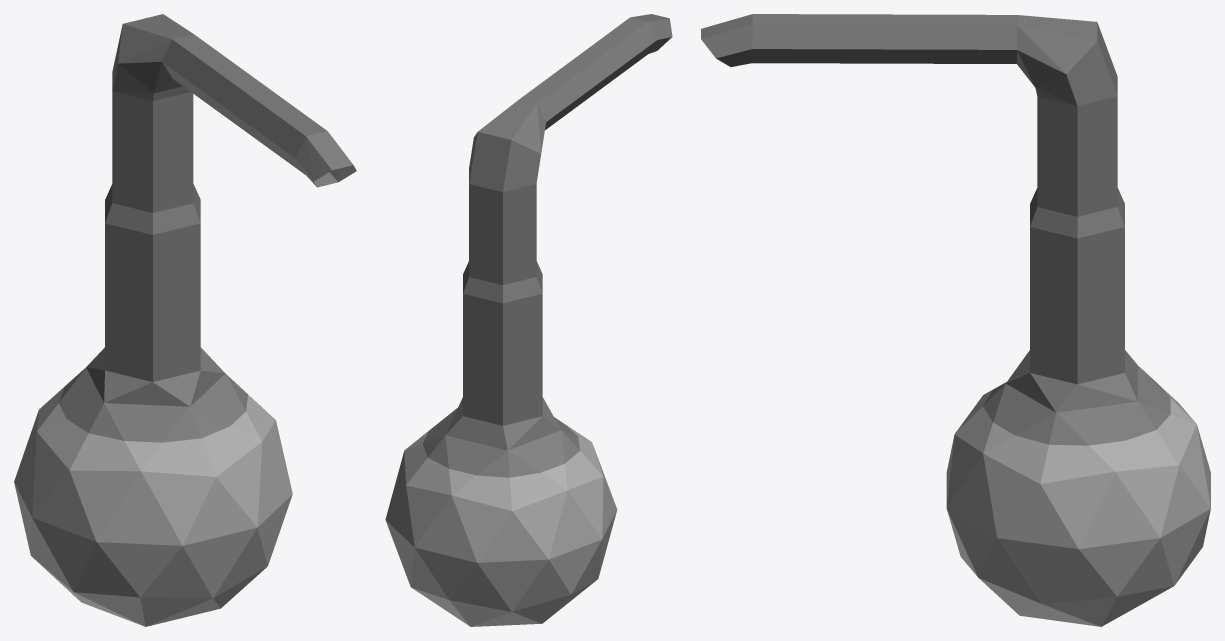
The model's file is alchemist_aparatus_749x04.gltf.
3 renders of one model, left to right at view 1: azimuth 30°, elevation 25°; view 2: azimuth 150°, elevation 25°; view 3: azimuth 270°, elevation 25°, orthographic. The views are drawn at different scales.
Visible parts, largest first — view 1: alchemist_aparatus_749x04; view 2: alchemist_aparatus_749x04; view 3: alchemist_aparatus_749x04.
Boxes of the visible parts, x1=… form: alchemist_aparatus_749x04: x1=14, y1=14, x2=356, y2=626; alchemist_aparatus_749x04: x1=385, y1=14, x2=672, y2=626; alchemist_aparatus_749x04: x1=701, y1=14, x2=1210, y2=626.
Bounding box in the file's own units: 0.5225 × 1.24 × 0.9589.
2 materials, 2 textured.
